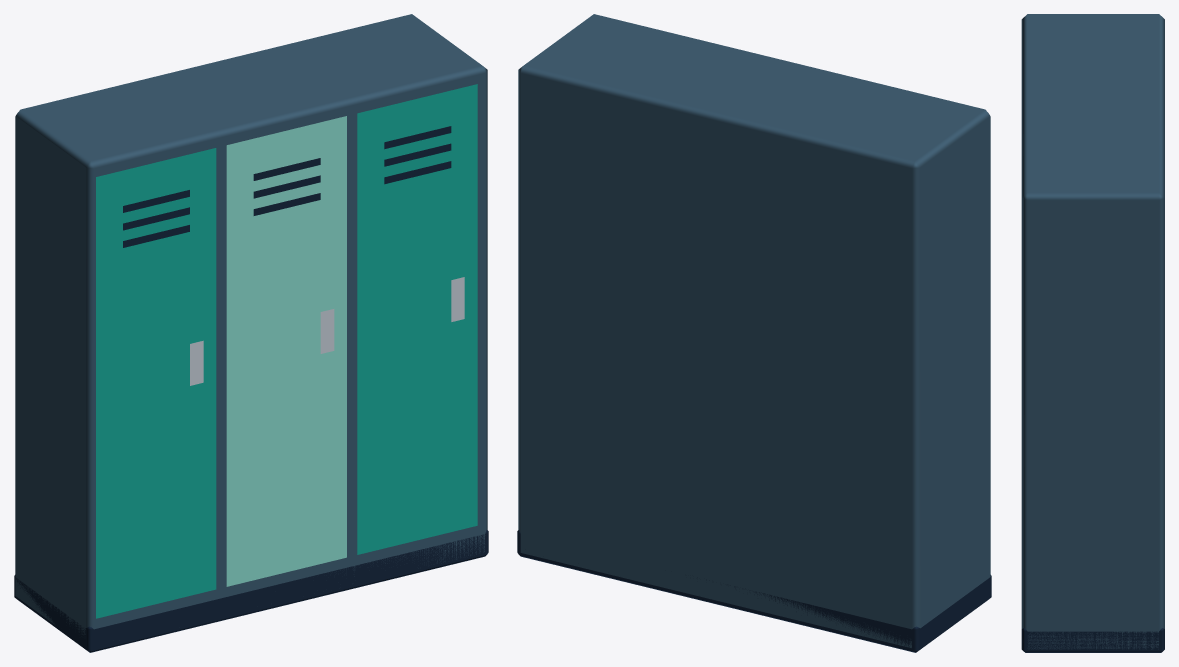
The model's file is CM_Interior_StaffLocker.fbx.
3 renders of one model, left to right at view 1: azimuth 30°, elevation 25°; view 2: azimuth 150°, elevation 25°; view 3: azimuth 270°, elevation 25°, orthographic. The views are drawn at different scales.
Visible parts, largest first — view 1: Body, Door3, Door1, Door2; view 2: Body; view 3: Body.
Boxes of the visible parts, left/top/right/bottom form: Body: left=14, top=14, right=488, bottom=652; Door3: left=357, top=84, right=477, bottom=554; Door1: left=96, top=148, right=216, bottom=618; Door2: left=226, top=116, right=346, bottom=586; Body: left=517, top=14, right=991, bottom=652; Body: left=1021, top=14, right=1164, bottom=652.
Size of the model in its own units: 6 by 2 by 7.
1 material, 1 textured.
